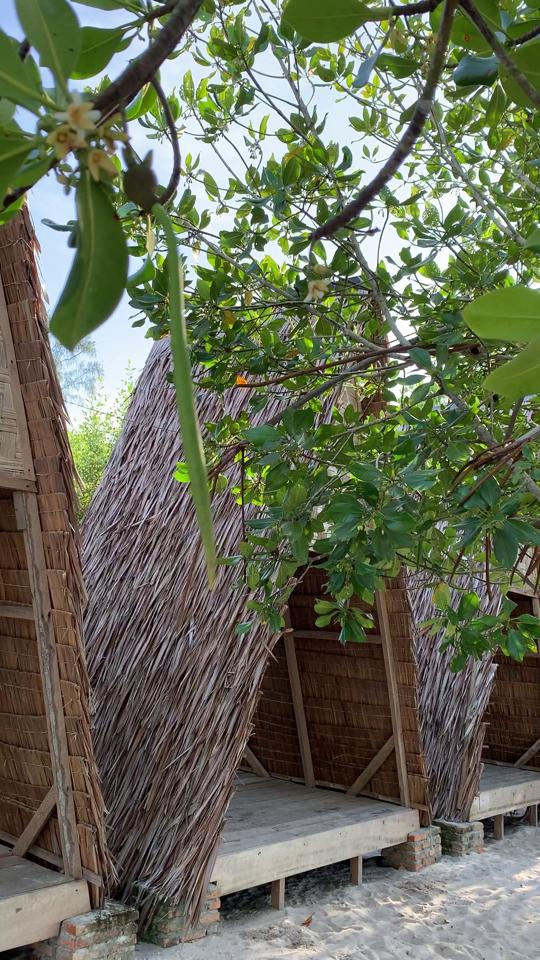mentah: (106, 138, 239, 596)
